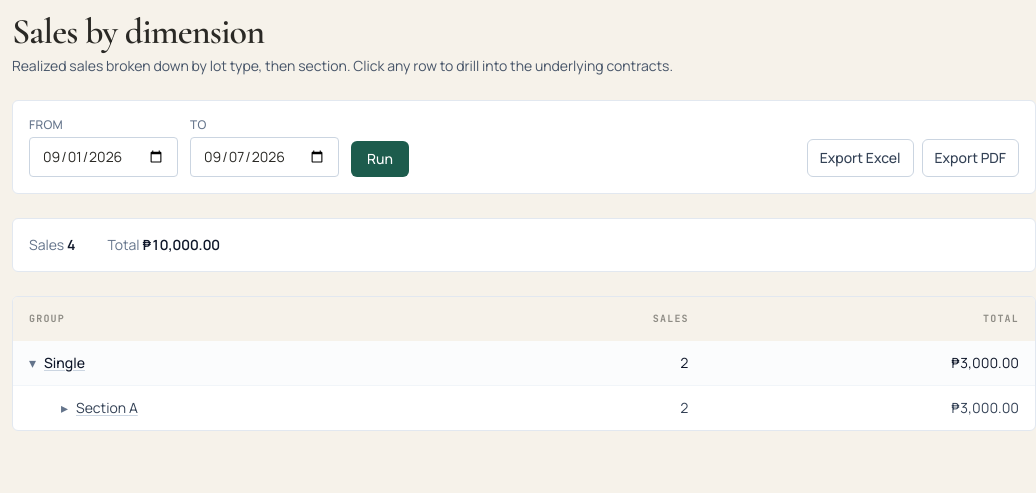
Test: /reports/sales — UX states › renders agent rows when the toggle is on and agents are populated
Click the button "▸": (64, 408) [61,398,68,418]
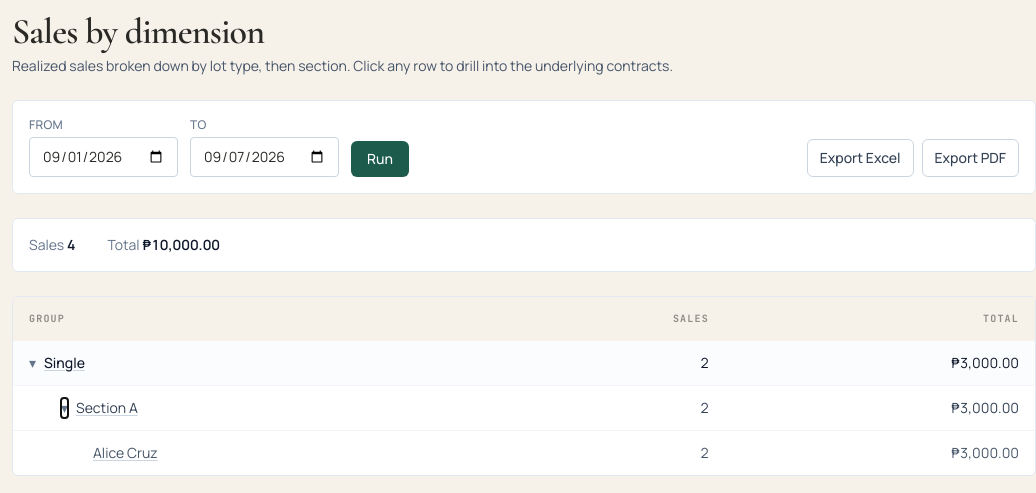
Result: the row with test id "report-agent-single-A-users:agent1" shows "Alice Cruz" at [93,443,158,463]
